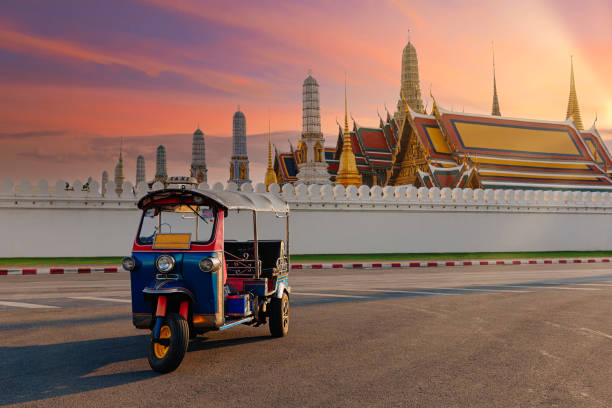threewheel: (120, 188, 292, 375)
